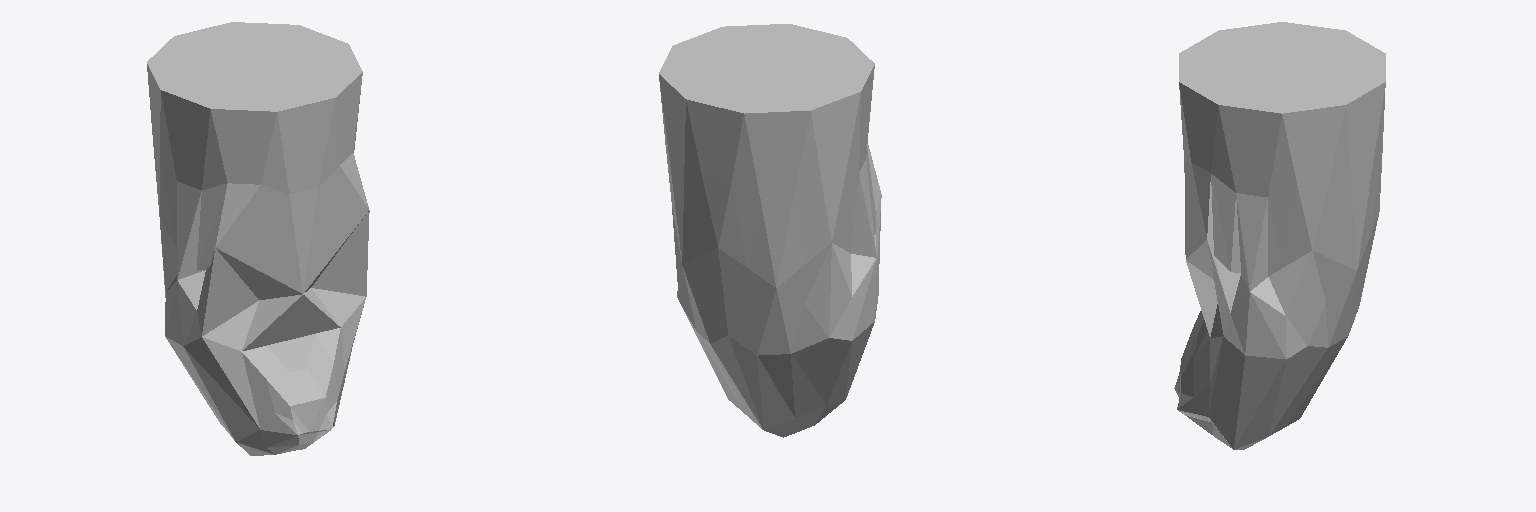
Rendered from tiki_inverted_firing_1.obj.
3 renders of one model, left to right at view 1: azimuth 30°, elevation 25°; view 2: azimuth 150°, elevation 25°; view 3: azimuth 270°, elevation 25°, orthographic.
Parts seen in each view (by area): view 1: Icosphere.001; view 2: Icosphere.001; view 3: Icosphere.001.
Boxes of the visible parts, <box> form: Icosphere.001: <box>147,22,369,455</box>; Icosphere.001: <box>659,24,881,437</box>; Icosphere.001: <box>1174,22,1385,449</box>.
Bounding box in the file's own units: 1.29 × 2.47 × 1.26.